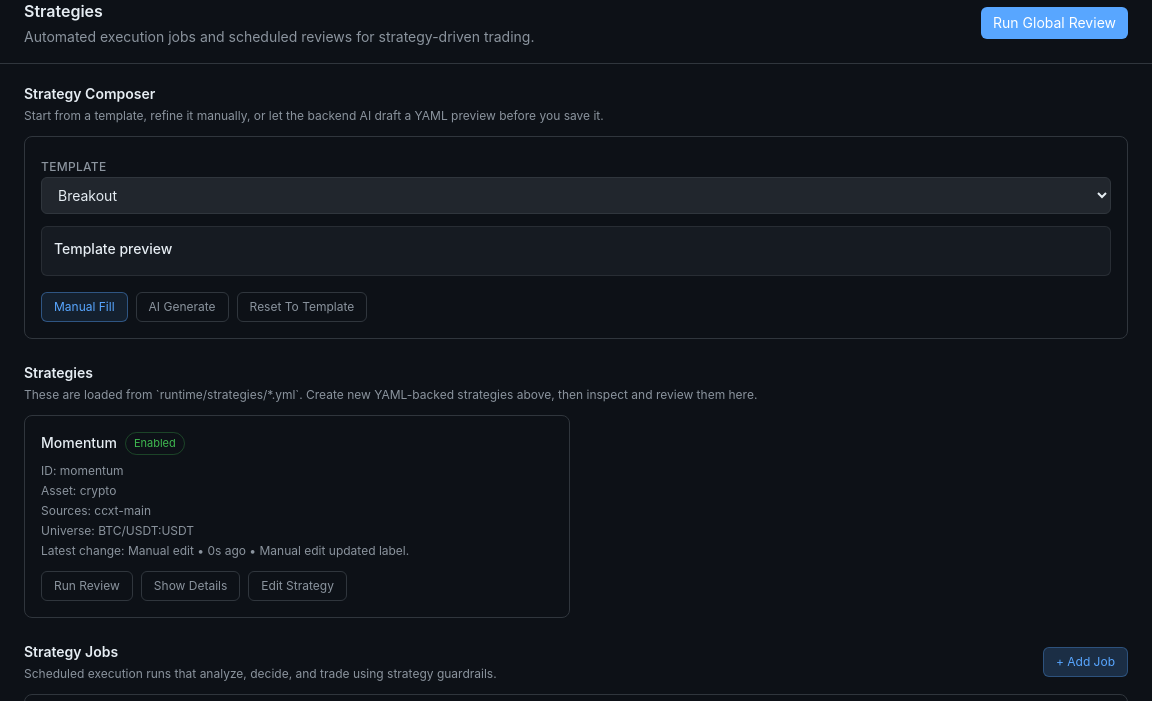
Scenario: StrategiesPage › shows an error when manual review fails
The width and height of the screenshot is (1152, 701).
Click the button "Run Global Review": [1054, 23] box [981, 7, 1128, 39]
(page scrolled)
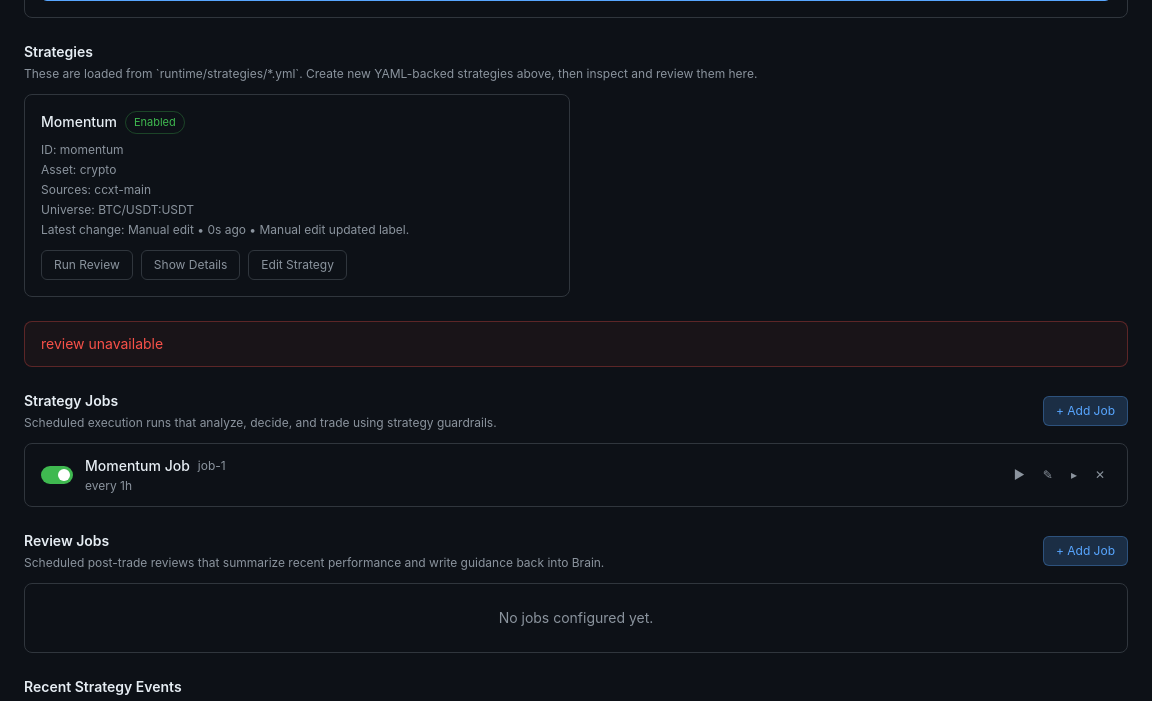
Now the text "review unavailable" is shown, box [24, 320, 1128, 366]
